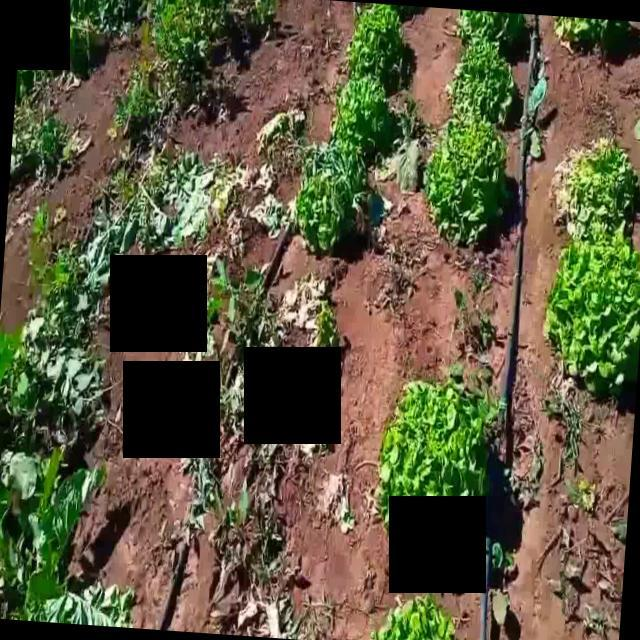Lettuce: (542, 231, 640, 389), (374, 381, 492, 508), (427, 106, 507, 247), (554, 136, 640, 234), (298, 140, 371, 254), (446, 29, 513, 127), (336, 70, 396, 154), (347, 0, 400, 84), (377, 594, 460, 640), (448, 5, 526, 47), (555, 19, 629, 48)
